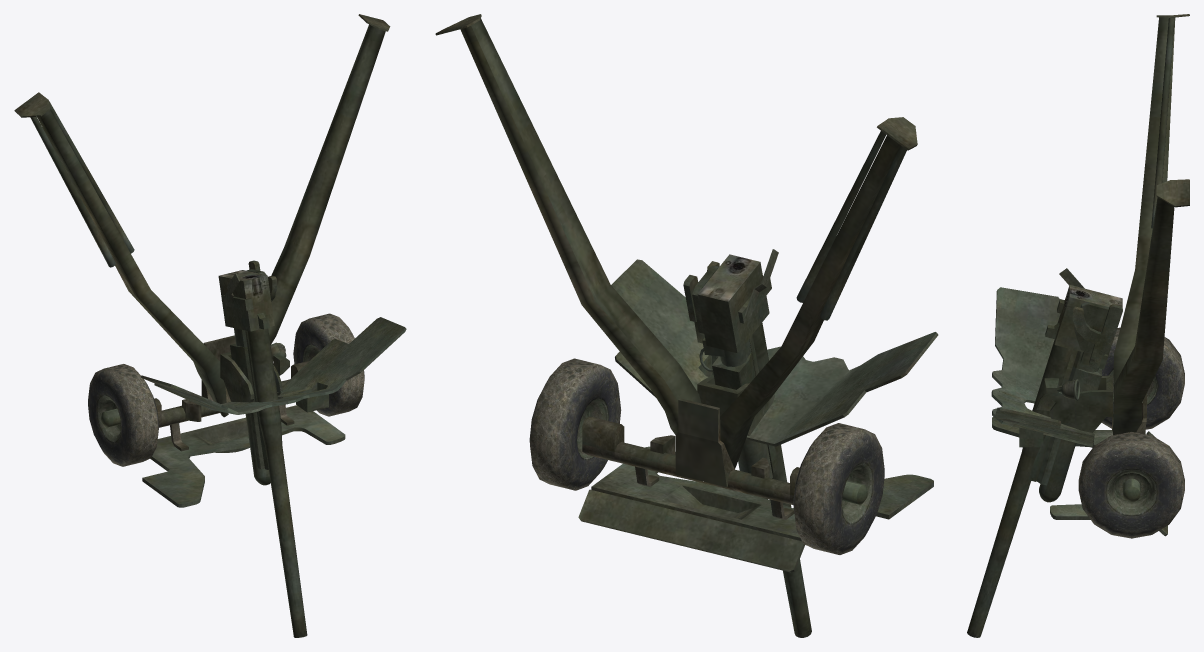
File: artillery_british_6pndr.glb
3 renders of one model, left to right at view 1: azimuth 30°, elevation 25°; view 2: azimuth 150°, elevation 25°; view 3: azimuth 270°, elevation 25°, orthographic. The views are drawn at different scales.
Bounding box in the file's own units: 136 × 179 × 67.02.
Materials: 3 (3 with a texture image).
